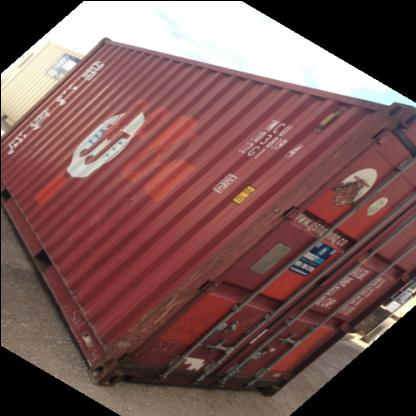Damage: (104, 278, 209, 352), (183, 210, 274, 276), (258, 148, 350, 210), (333, 99, 406, 151), (182, 350, 206, 378)
